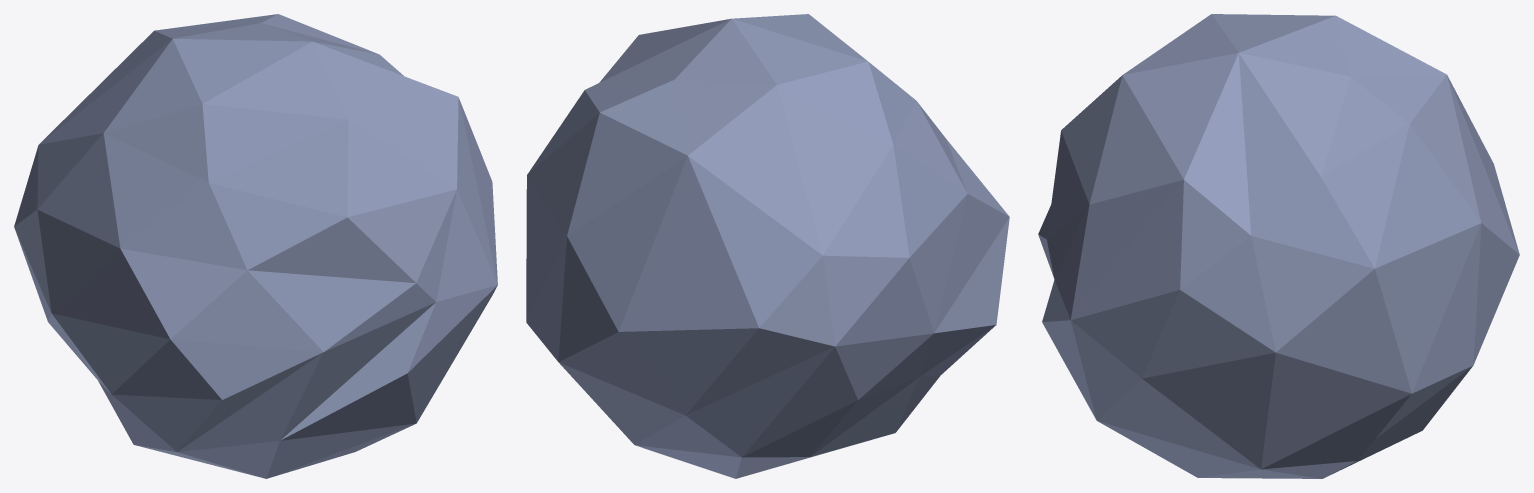
File: OGLE-2016-BLG-1928.fbx
3 renders of one model, left to right at view 1: azimuth 30°, elevation 25°; view 2: azimuth 150°, elevation 25°; view 3: azimuth 270°, elevation 25°, orthographic. The views are drawn at different scales.
Parts seen in each view (by area): view 1: OGLE-2016-BLG-1928; view 2: OGLE-2016-BLG-1928; view 3: OGLE-2016-BLG-1928.
Boxes of the visible parts, <box> form: OGLE-2016-BLG-1928: <box>14,14,497,478</box>; OGLE-2016-BLG-1928: <box>526,14,1009,478</box>; OGLE-2016-BLG-1928: <box>1038,14,1519,478</box>.
Bounding box in the file's own units: 202 × 199 × 204.
